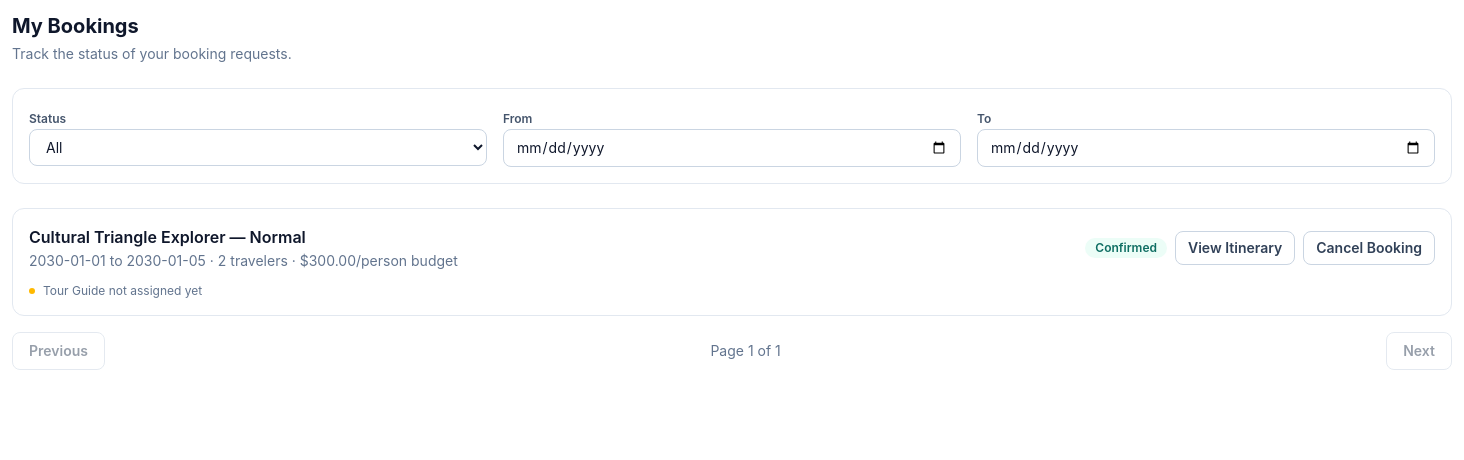
Scenario: MyBookingsPage › shows the itinerary when View Itinerary is clicked for a confirmed booking
This screenshot has width=1464, height=460.
expect the text "Cultural Triangle Explorer — Normal" is shown: met, box [29,227,306,247]
Click the button "View Itinerary": (1235, 248) [1175,231,1295,265]
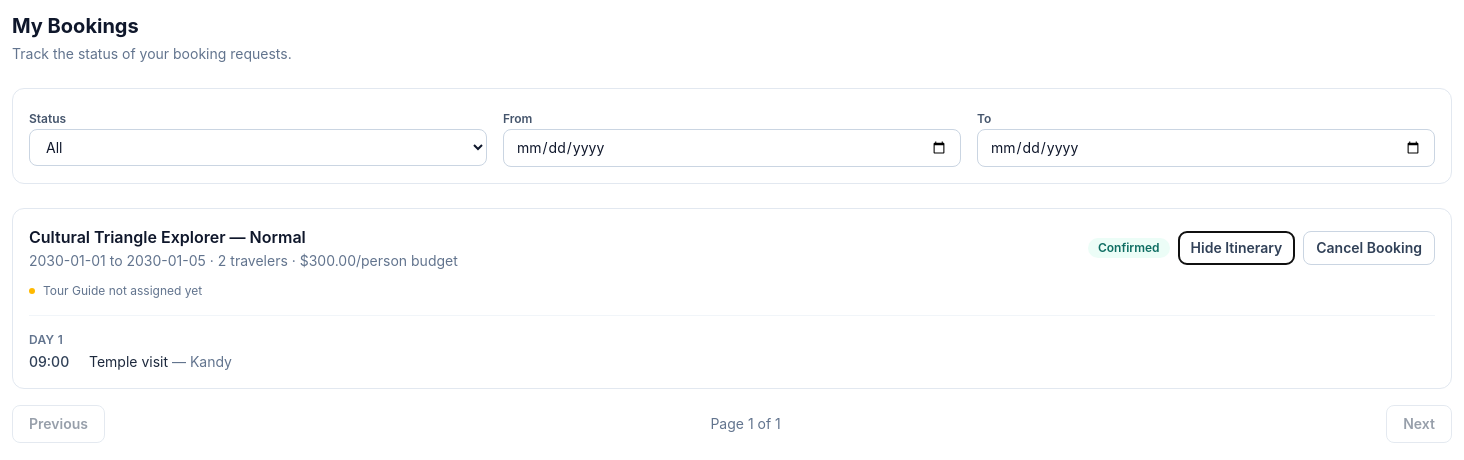
expect the text "Temple visit — Kandy" is shown: met, box [89,352,232,372]
